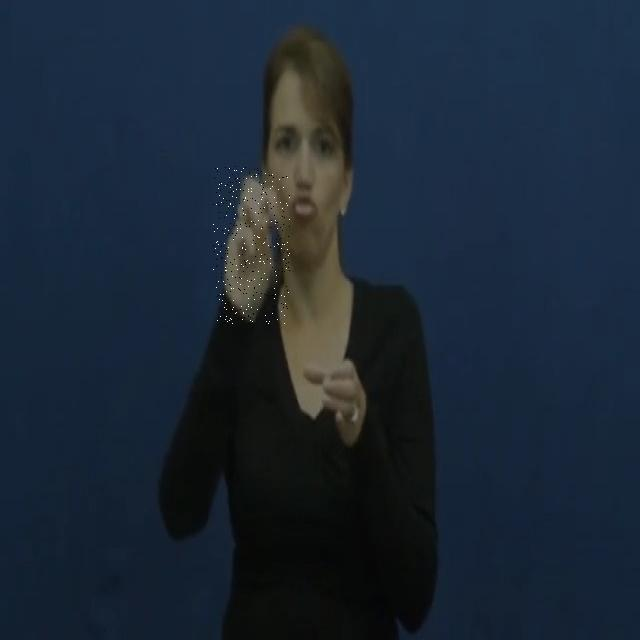straw: (213, 166, 290, 324)
